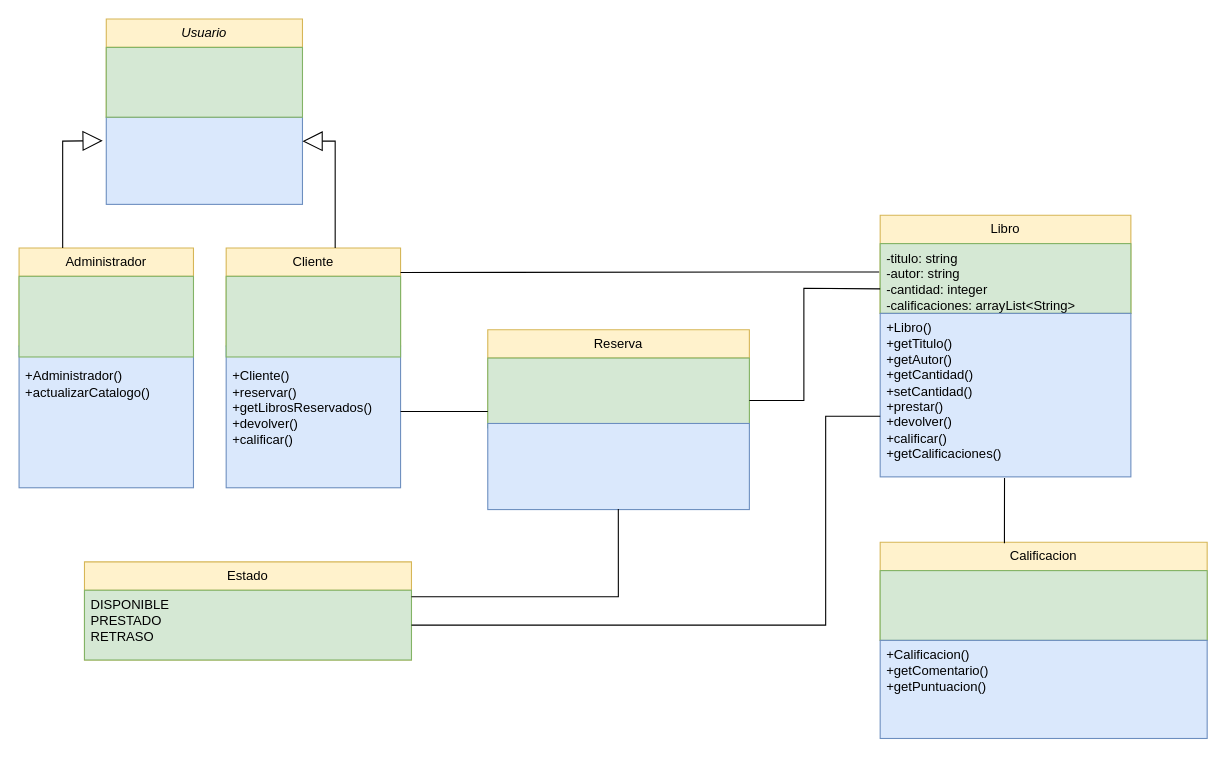
The diagram is 1226 pixels wide and 761 high, and some of its shapes have lost their labels. Here are the shapes that lost their labels. From the top down, the centre of each, then its label:
(x=203, y=81): +nombre : string +email: string
(x=203, y=160): +Usuario() +getNombre() +getEmail()
(x=313, y=316): -librosReservados: arrayList<String> -reservas: arrayList<Reserva>
(x=618, y=392): -usuario: Usuario -libro: Libro -estado: Estado
(x=618, y=466): +Reserva() +getCliente() +getLibro() +getEstado() +devolver()
(x=1043, y=605): -comentario: string -puntuacion: integer
